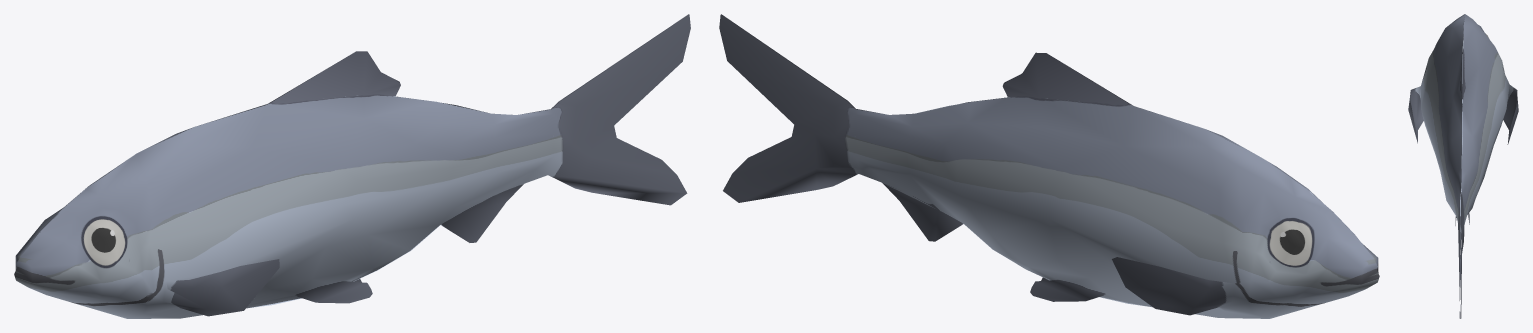
Rendered from alewife00.fbx.
3 renders of one model, left to right at view 1: azimuth 30°, elevation 25°; view 2: azimuth 150°, elevation 25°; view 3: azimuth 270°, elevation 25°, orthographic. The views are drawn at different scales.
Visible parts, largest first — view 1: Alewife_final; view 2: Alewife_final; view 3: Alewife_final.
Part boxes in pixels (bbox=[...]): Alewife_final: bbox=[14, 14, 690, 318]; Alewife_final: bbox=[719, 14, 1379, 318]; Alewife_final: bbox=[1408, 14, 1518, 318].
Bounding box in the file's own units: 0.3497 × 0.1219 × 0.0718.
